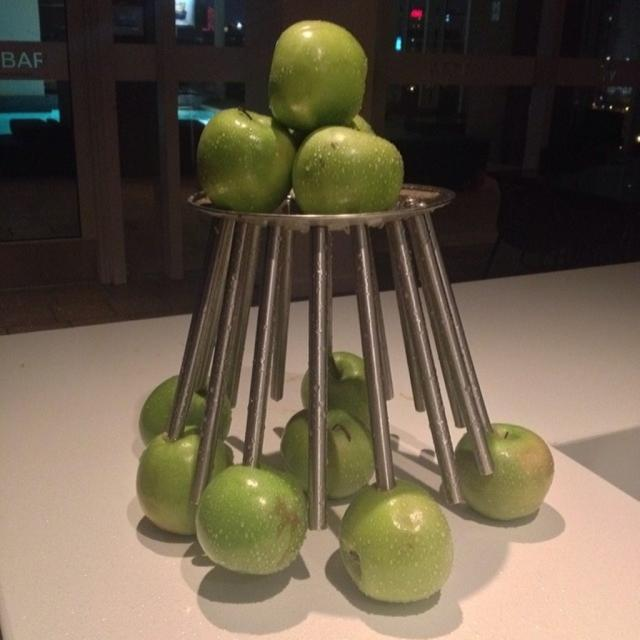Healty Apple: (338, 476, 453, 603), (196, 463, 311, 577), (266, 20, 370, 131), (197, 106, 302, 213), (136, 427, 232, 539), (453, 420, 554, 521), (291, 126, 404, 210), (278, 410, 378, 499), (135, 372, 235, 447), (302, 351, 371, 430), (294, 113, 375, 134)
